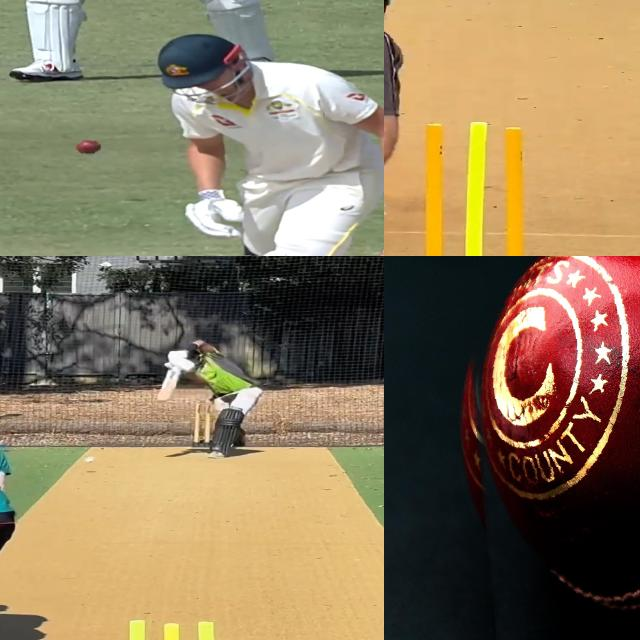Cricket ball: (454, 256, 640, 640), (76, 140, 101, 156), (82, 455, 96, 466)
Stumps: (402, 119, 543, 256)
